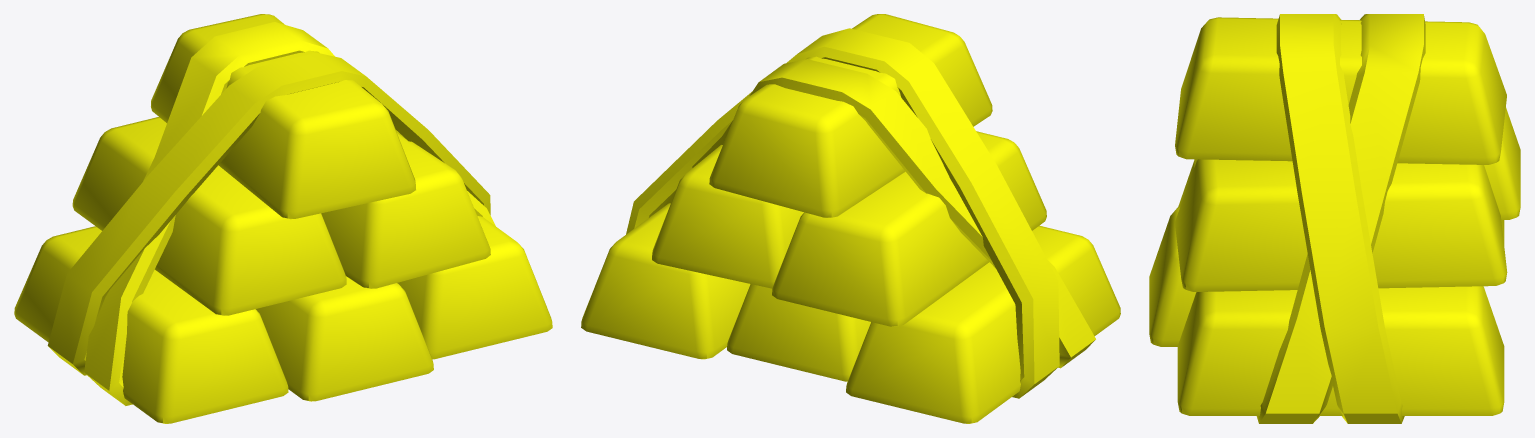
The model's file is kaykit-copper-bars.glb.
3 views of the same model, side by side, from view 1: azimuth 30°, elevation 25°; view 2: azimuth 150°, elevation 25°; view 3: azimuth 270°, elevation 25° (orthographic). The views are drawn at different scales.
Visible parts, largest first — view 1: Copper_Bars; view 2: Copper_Bars; view 3: Copper_Bars.
Part boxes in pixels (left/top/right/bottom): Copper_Bars: left=14, top=14, right=552, bottom=423; Copper_Bars: left=581, top=14, right=1120, bottom=423; Copper_Bars: left=1149, top=14, right=1520, bottom=423.
Bounding box in the file's own units: 1.27 × 0.7897 × 0.9106.
